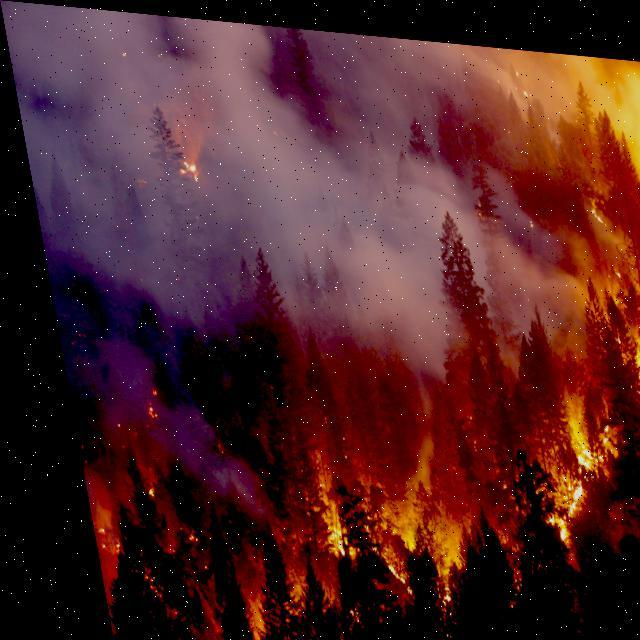Fire: (480, 208, 639, 562), (288, 450, 488, 606)
